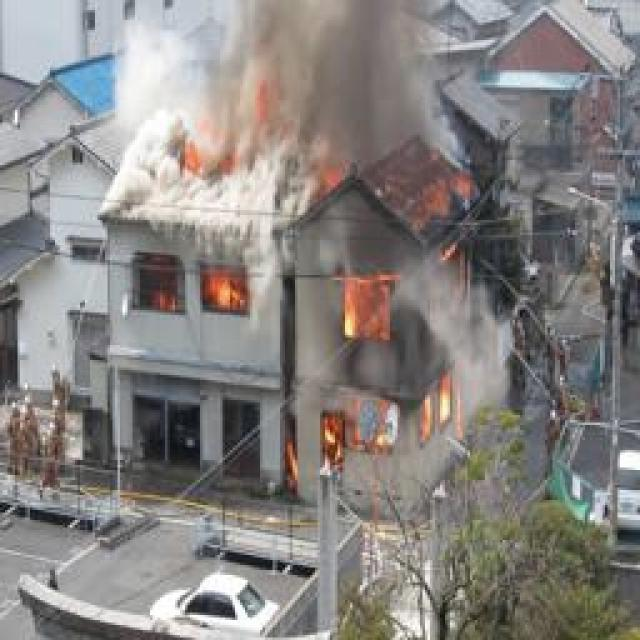Fire: (321, 161, 486, 464), (177, 83, 291, 173), (146, 252, 260, 308)
